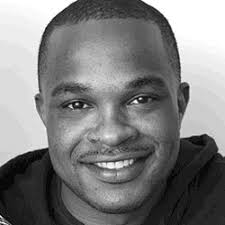bare: (43, 117, 186, 210)
